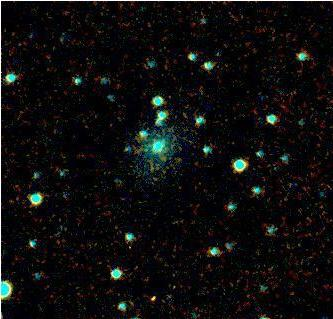star: (137, 282, 167, 312)
